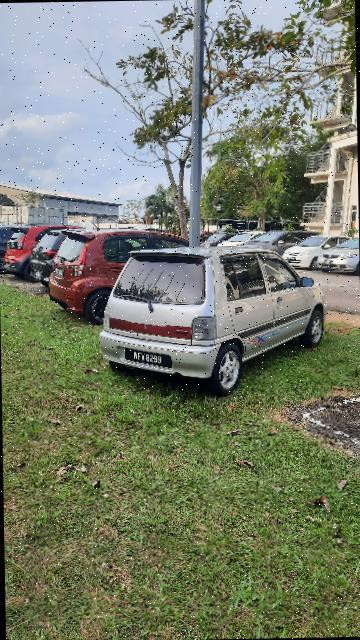License_Plate: (120, 346, 176, 376)
car: (95, 244, 329, 398), (46, 225, 200, 319), (282, 222, 360, 278)
